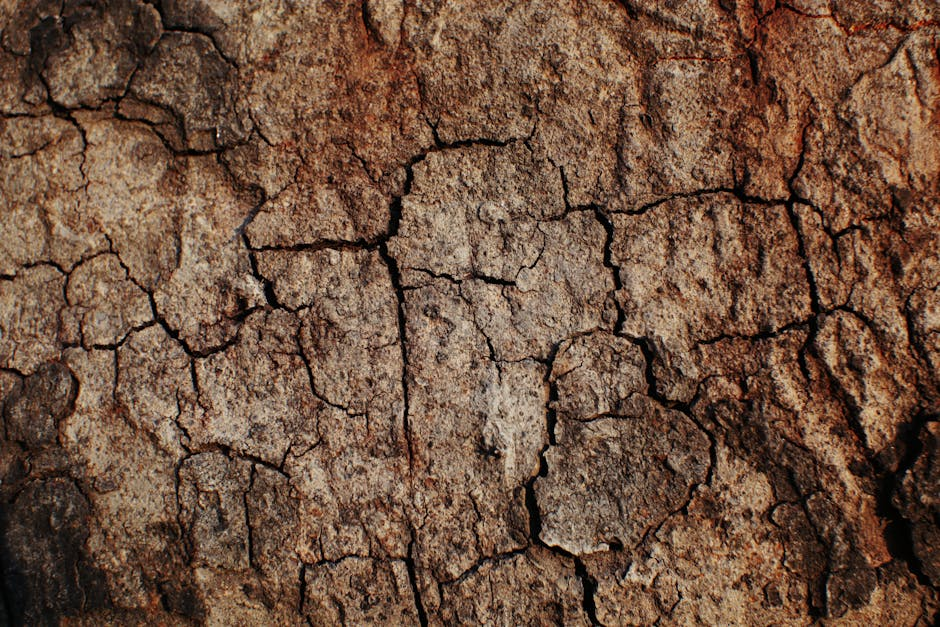细微裂纹: (16, 219, 261, 377), (515, 156, 874, 246), (349, 269, 438, 610), (26, 75, 270, 137)
